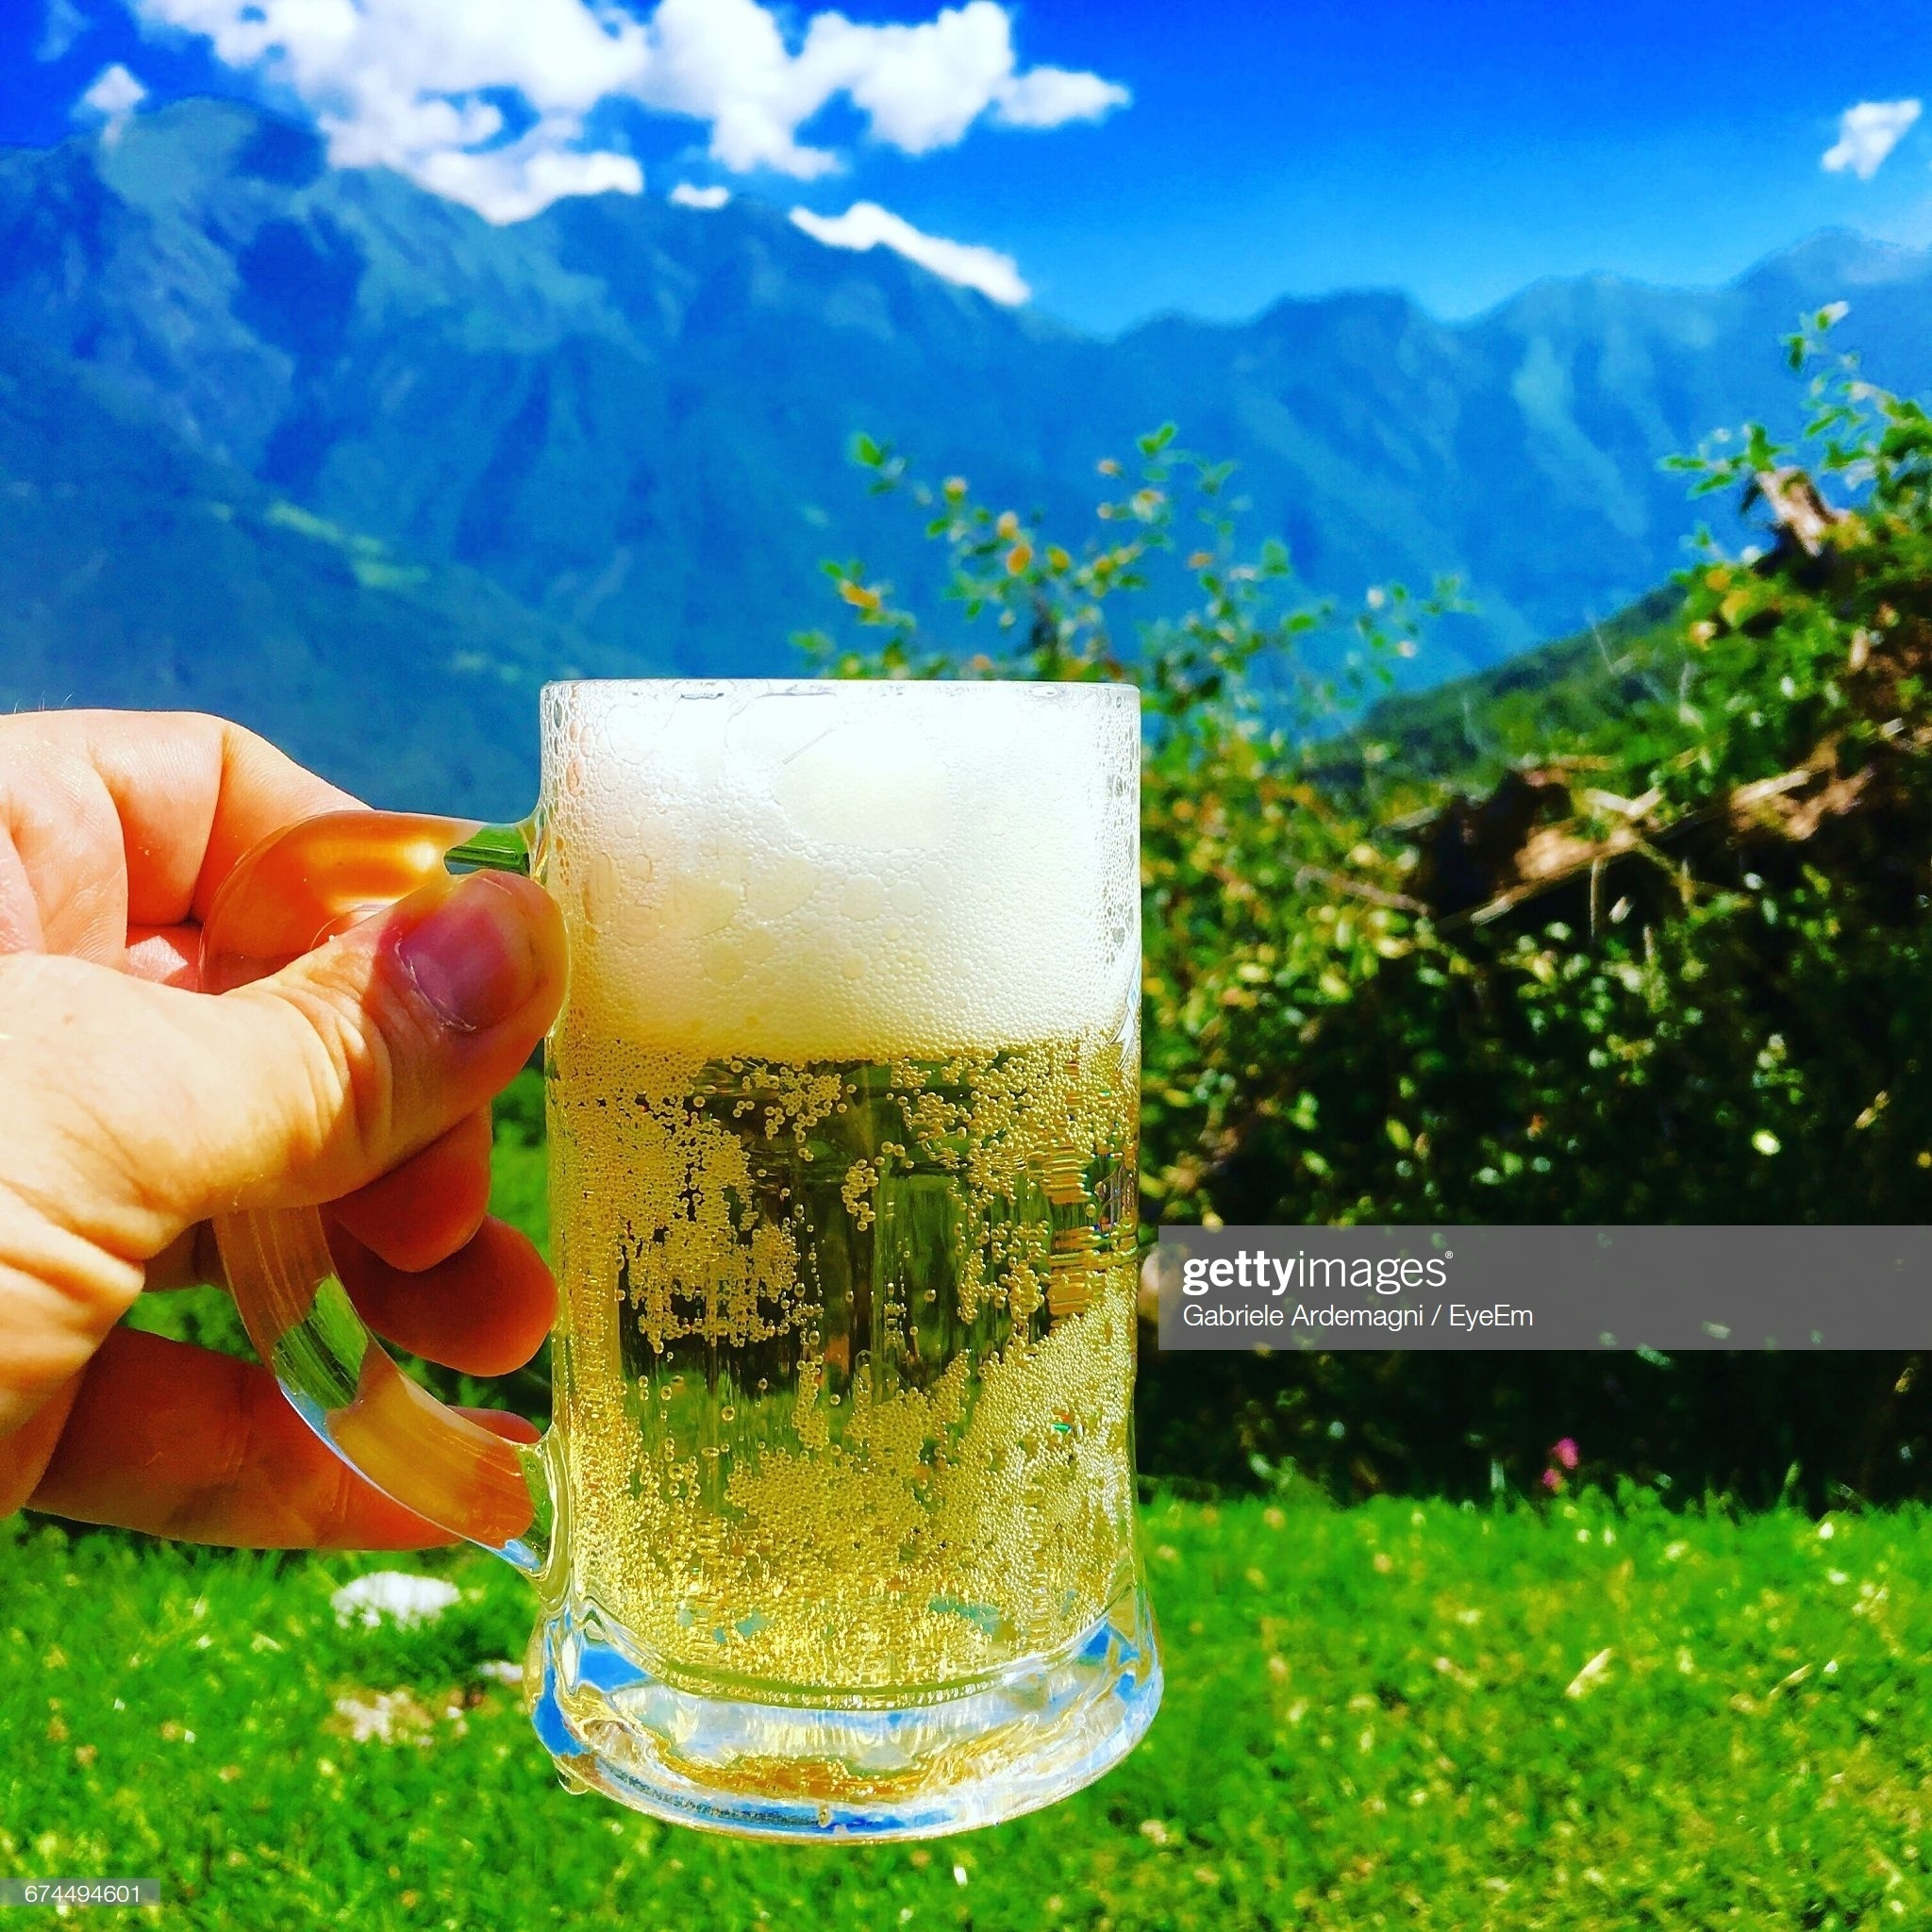whiskey: (464, 669, 1194, 1782)
